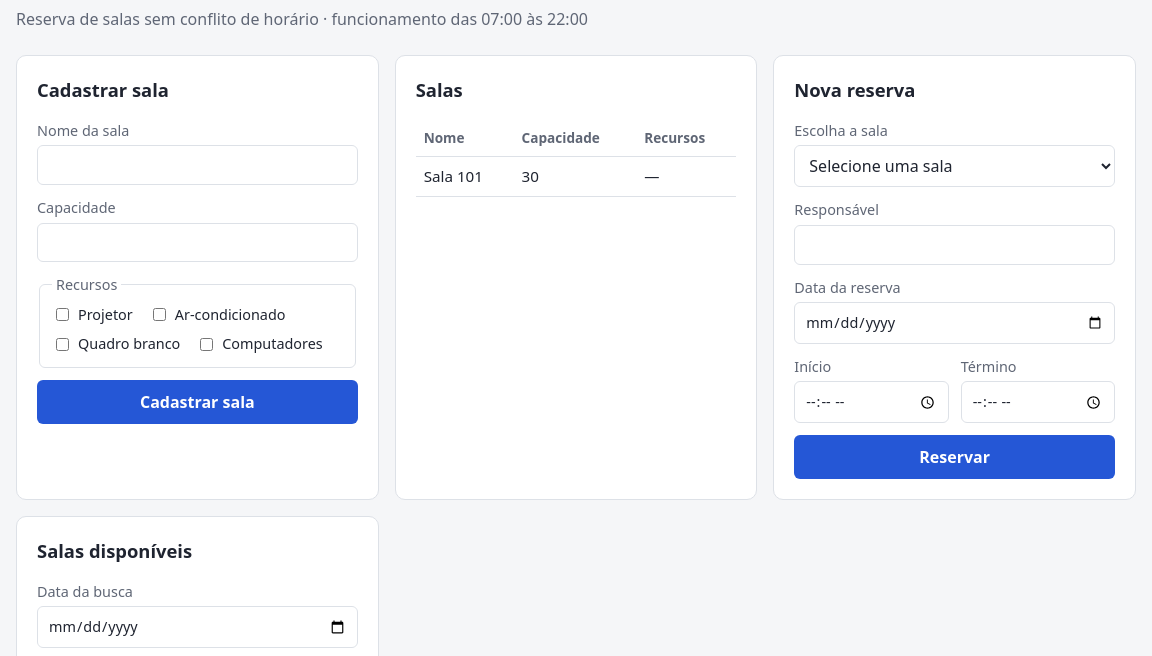
Test: App › exibe na lista de reservas a reserva criada pelo formulário
The width and height of the screenshot is (1152, 656).
Select "Sala 101 (30 lugares)" in the dropdown labelled "Escolha a sala" at (955,166), box left=794, top=145, right=1115, bottom=187
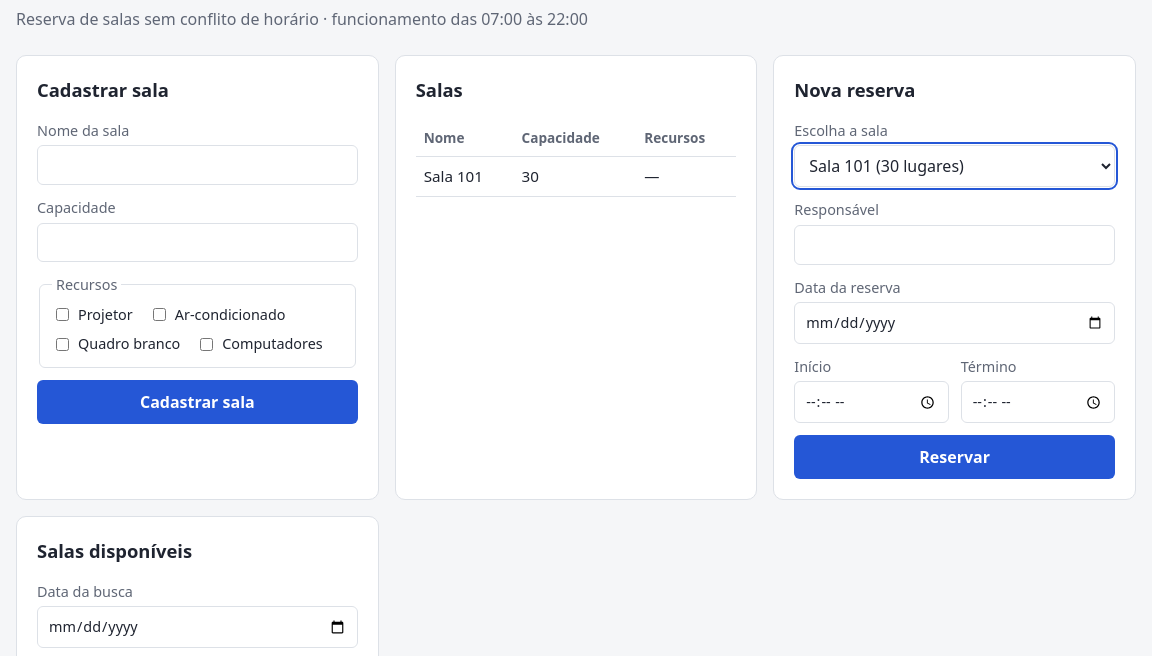
Type "Maria" into the field labelled "Responsável" at (955,245), box left=794, top=225, right=1115, bottom=265
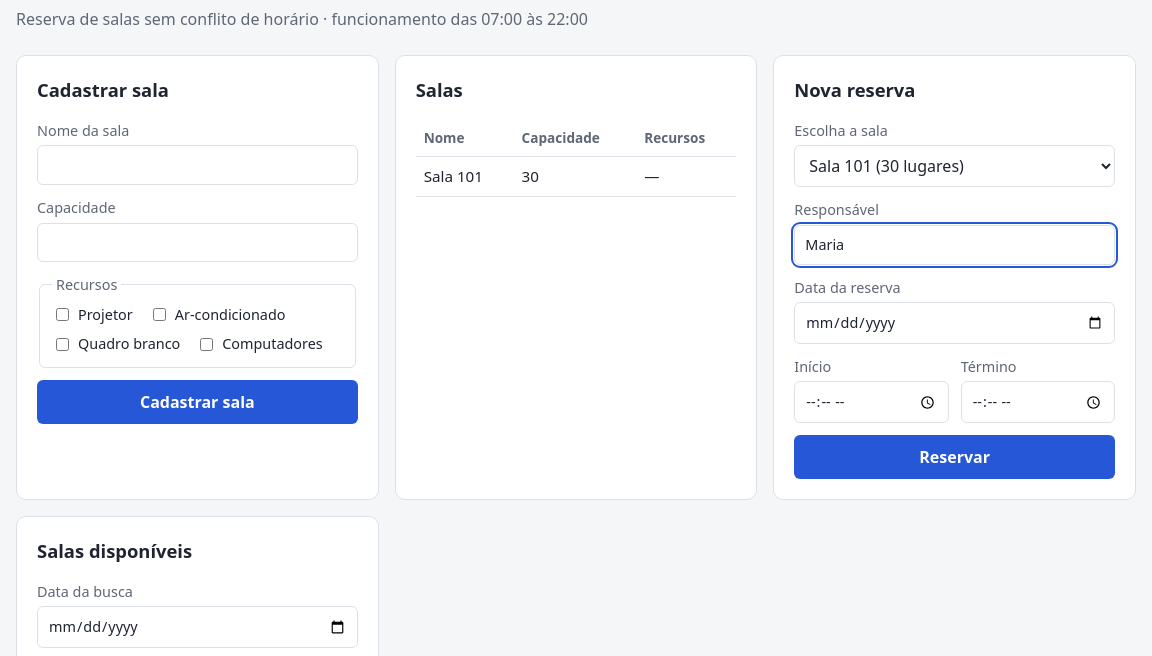
Type "2030-03-11" into the date field labelled "Data da reserva" at (955,323), box left=794, top=302, right=1115, bottom=344
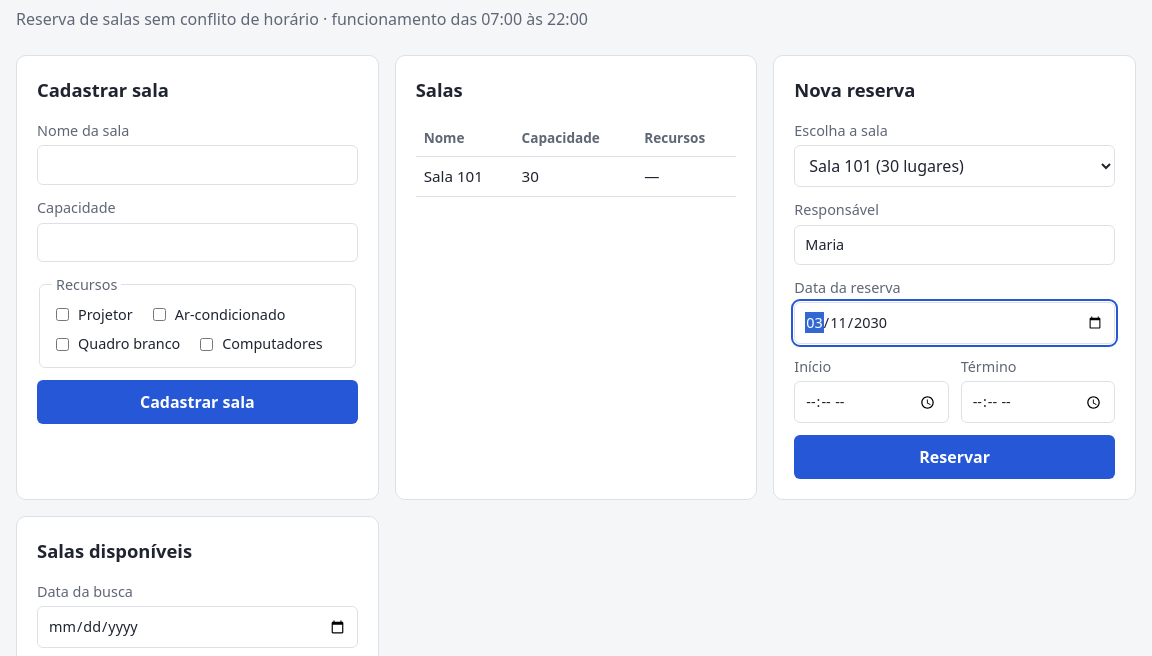
Type "09:00" into the time field labelled "Início" at (871,402), box left=794, top=381, right=949, bottom=423
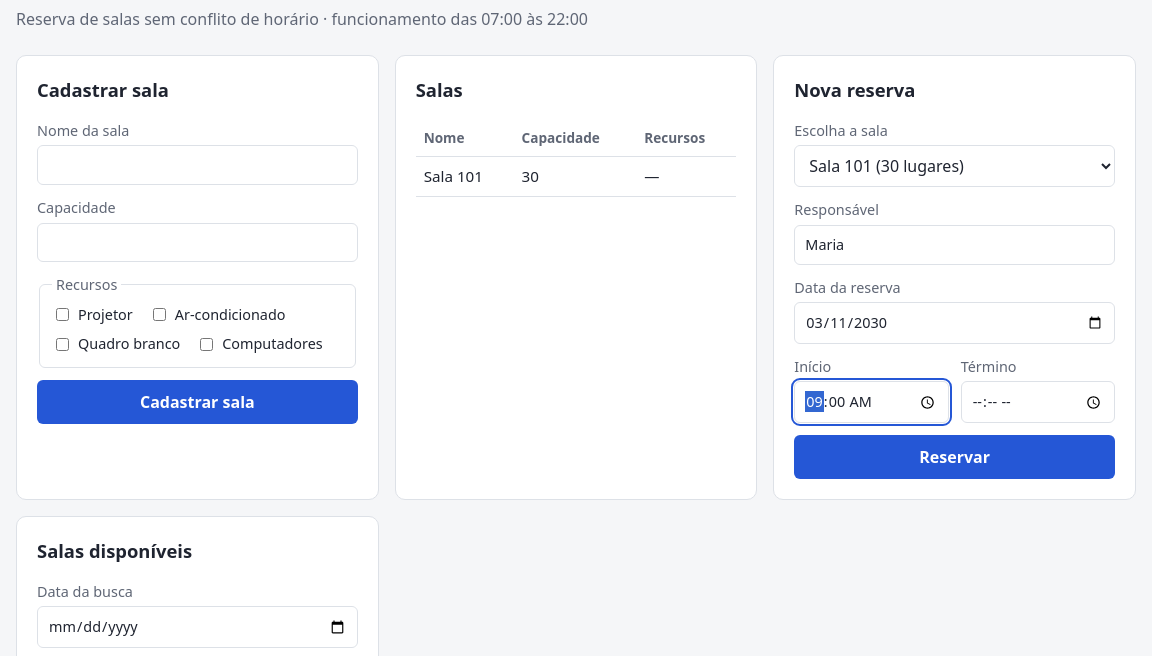
Type "10:00" into the time field labelled "Término" at (1038,402), box left=961, top=381, right=1115, bottom=423
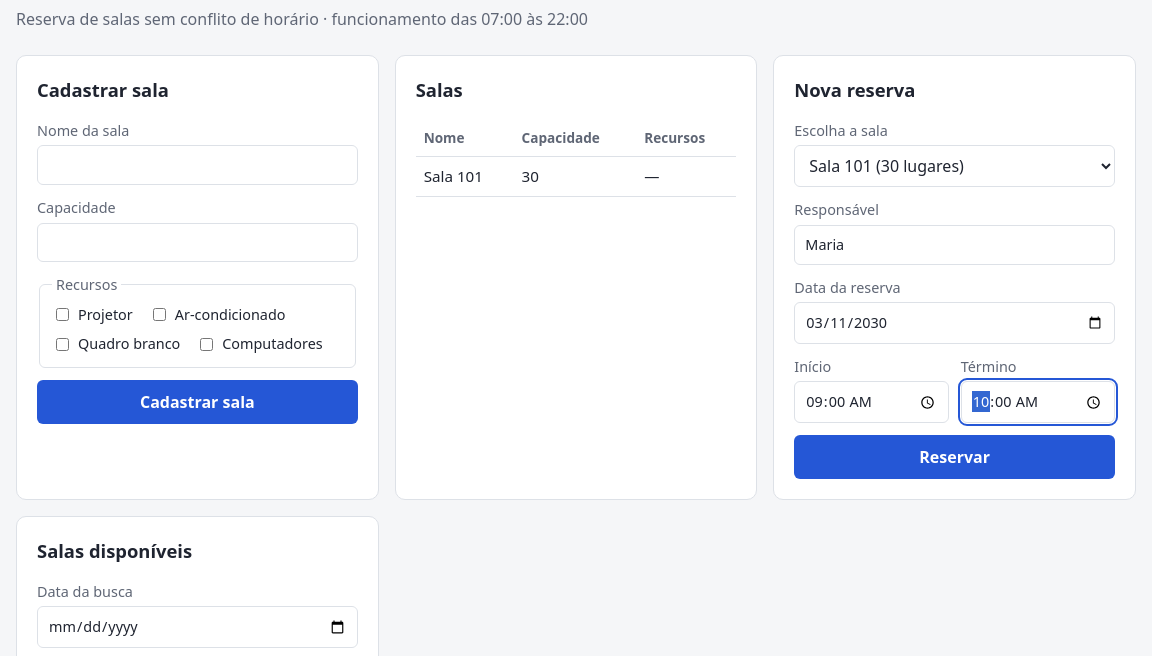
Click the button "Reservar" at (955,457), box left=794, top=435, right=1115, bottom=479
(page scrolled)
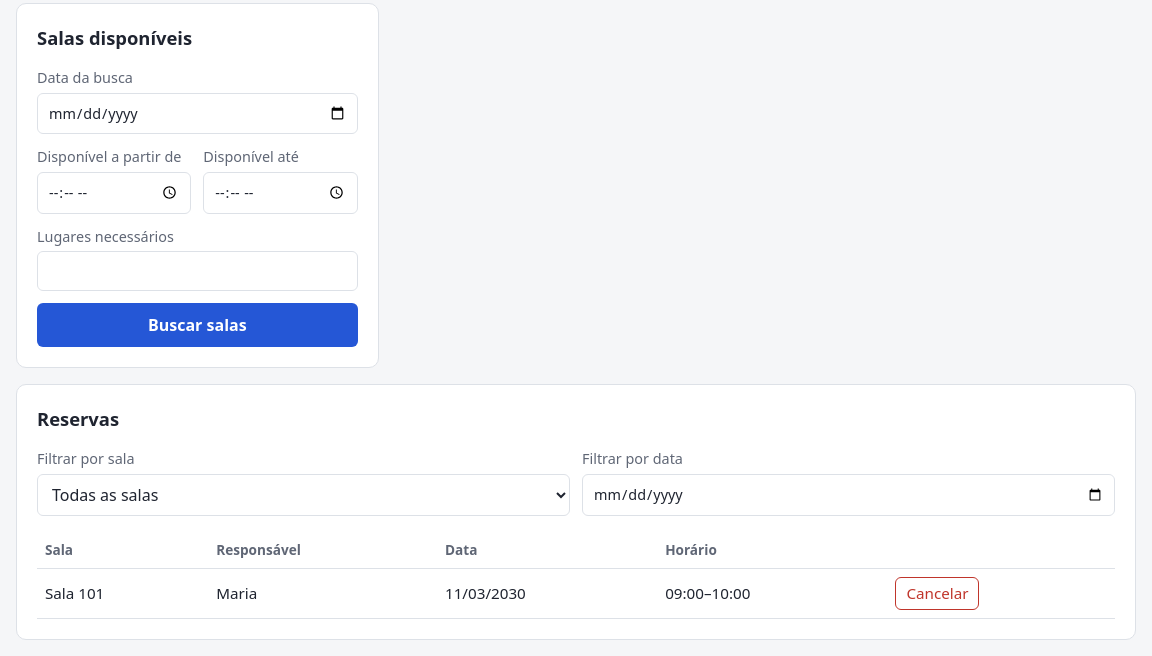
Expected: the text "09:00–10:00" is shown, left=657, top=569, right=887, bottom=619
